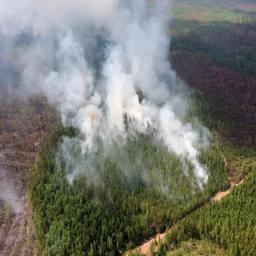Heavy smoke: (1, 2, 208, 172)
